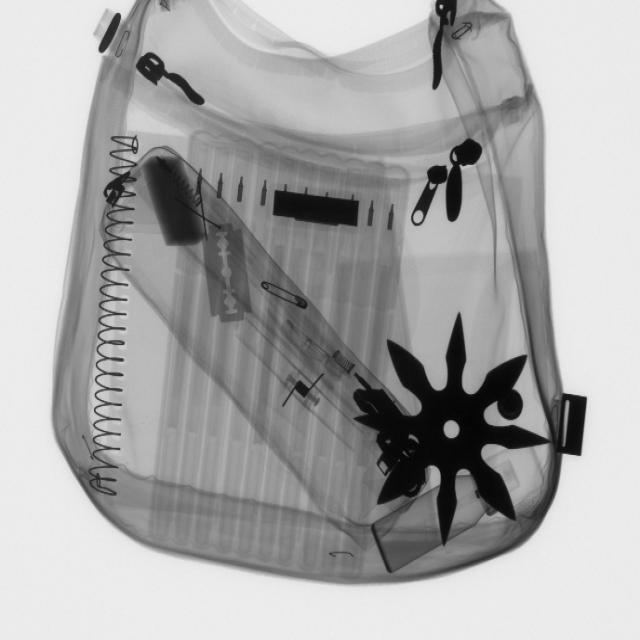BLADE: (199, 202, 262, 331)
SHURIKEN: (355, 314, 547, 550)
